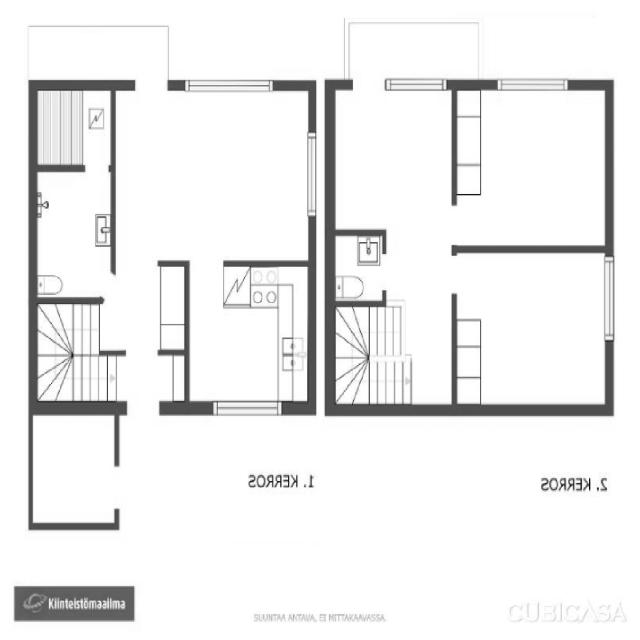door: (126, 54, 172, 100)
window: (181, 70, 278, 100), (492, 70, 574, 98), (206, 395, 288, 420), (382, 72, 452, 96), (601, 255, 619, 348), (304, 127, 319, 223), (112, 462, 124, 514)
zone: (110, 84, 318, 260), (453, 84, 610, 252), (454, 253, 613, 412), (185, 266, 313, 409), (330, 86, 454, 231), (33, 168, 114, 302), (28, 411, 119, 528), (110, 262, 188, 356), (32, 86, 113, 170), (331, 231, 386, 303)
